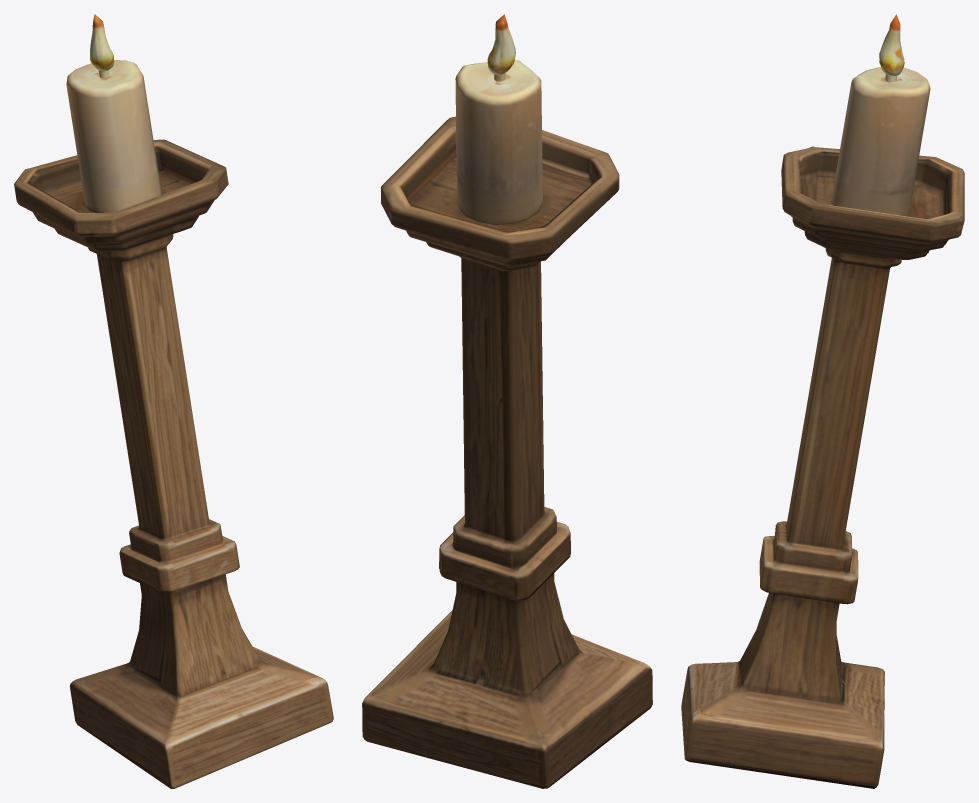
The model's file is act1_kit_v1_candle_stand.glb.
3 views of the same model, side by side, from view 1: azimuth 30°, elevation 25°; view 2: azimuth 150°, elevation 25°; view 3: azimuth 270°, elevation 25° (orthographic). The views are drawn at different scales.
Visible parts, largest first — view 1: act1_kit_v1_candle_stand; view 2: act1_kit_v1_candle_stand; view 3: act1_kit_v1_candle_stand.
Part boxes in pixels (x1=…): act1_kit_v1_candle_stand: x1=14, y1=14, x2=333, y2=788; act1_kit_v1_candle_stand: x1=362, y1=14, x2=652, y2=788; act1_kit_v1_candle_stand: x1=681, y1=14, x2=964, y2=788.
Size of the model in its own units: 0.299 by 1 by 0.3607.
1 material, 1 textured.
